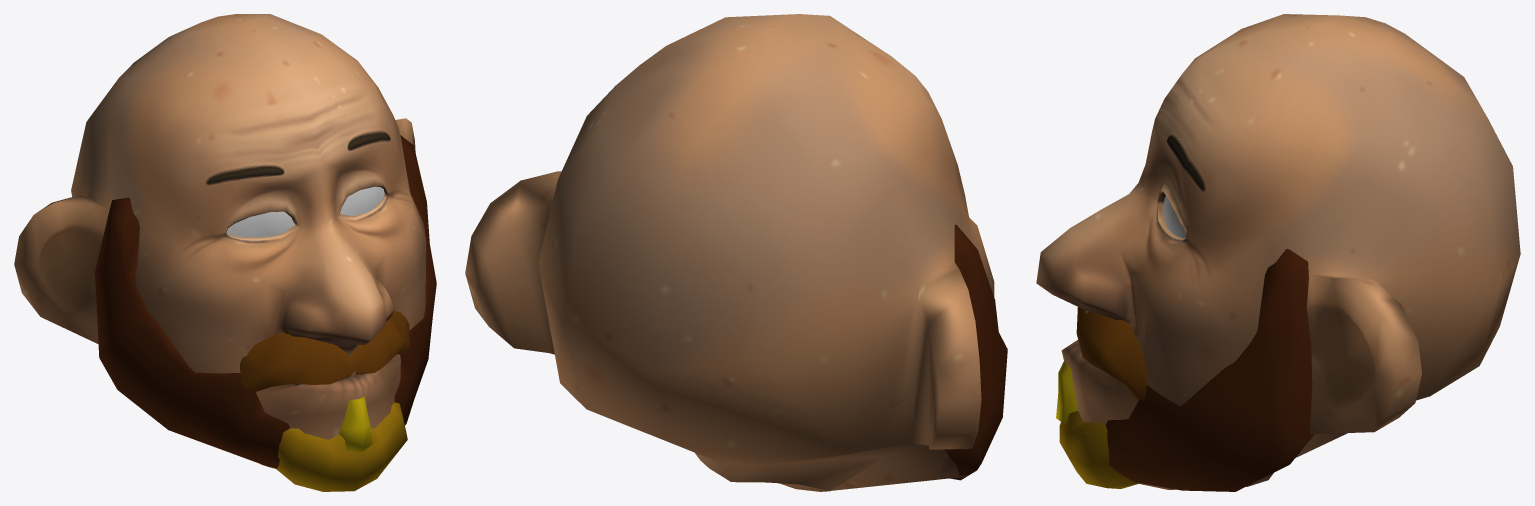
The model's file is E_pose13.fbx.
The picture shows the model from 3 angles, left to right: view 1: azimuth 30°, elevation 25°; view 2: azimuth 150°, elevation 25°; view 3: azimuth 270°, elevation 25°; orthographic projection. The views are drawn at different scales.
Visible parts, largest first — view 1: HEAD, BEARD; view 2: HEAD, BEARD; view 3: HEAD, BEARD.
Part boxes in pixels (box(x1,y1,x2,y2)): HEAD: box(14, 14, 426, 468); BEARD: box(95, 135, 436, 491); HEAD: box(465, 14, 994, 491); BEARD: box(944, 224, 1007, 480); HEAD: box(1036, 14, 1520, 489); BEARD: box(1056, 249, 1314, 491).
Size of the model in its own units: 27.45 by 25.74 by 24.9.
